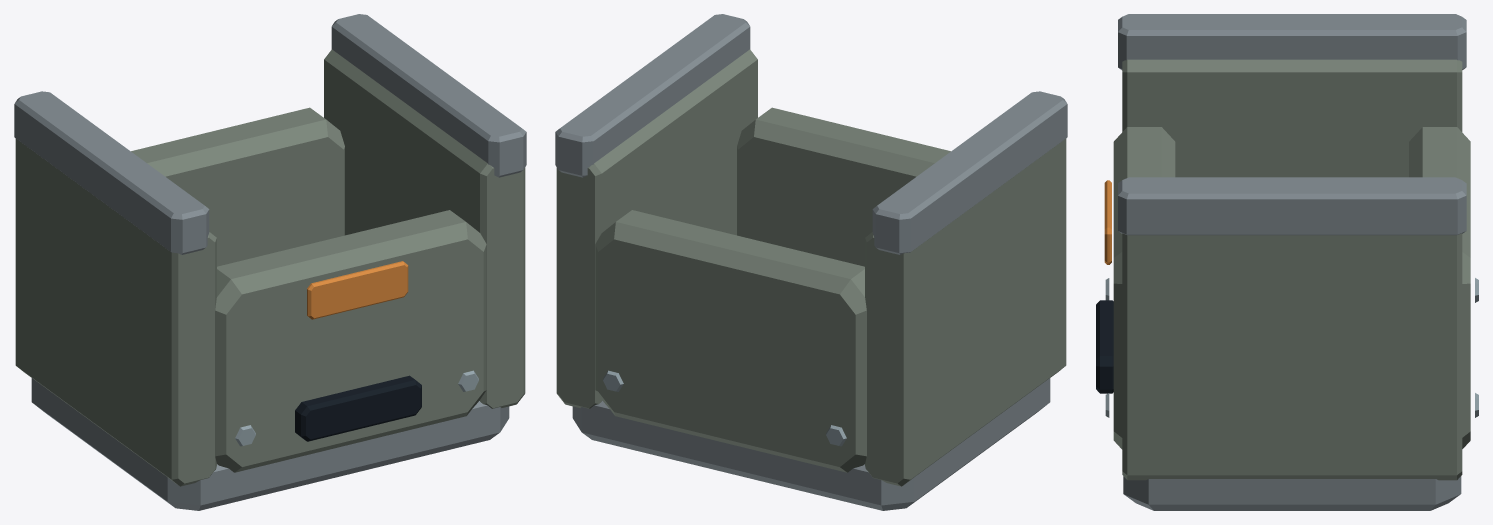
Rendered from turret_cartridge.glb.
The picture shows the model from 3 angles, left to right: view 1: azimuth 30°, elevation 25°; view 2: azimuth 150°, elevation 25°; view 3: azimuth 270°, elevation 25°; orthographic projection. The views are drawn at different scales.
Parts seen in each view (by area): view 1: turret_cartridge; view 2: turret_cartridge; view 3: turret_cartridge.
Part boxes in pixels (left/top/right/bottom): turret_cartridge: left=14, top=14, right=526, bottom=510; turret_cartridge: left=555, top=14, right=1067, bottom=510; turret_cartridge: left=1096, top=14, right=1478, bottom=510.
Bounding box in the file's own units: 0.408 × 0.337 × 0.3601.
